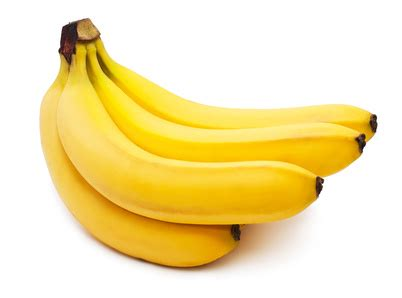banana: (55, 73, 328, 226), (37, 77, 247, 267), (93, 72, 368, 180), (104, 62, 381, 154)
